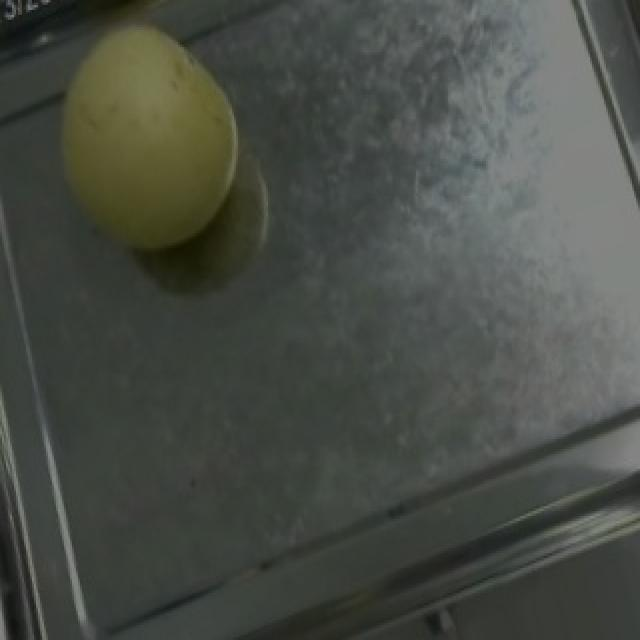Fruit: (18, 0, 280, 288)
